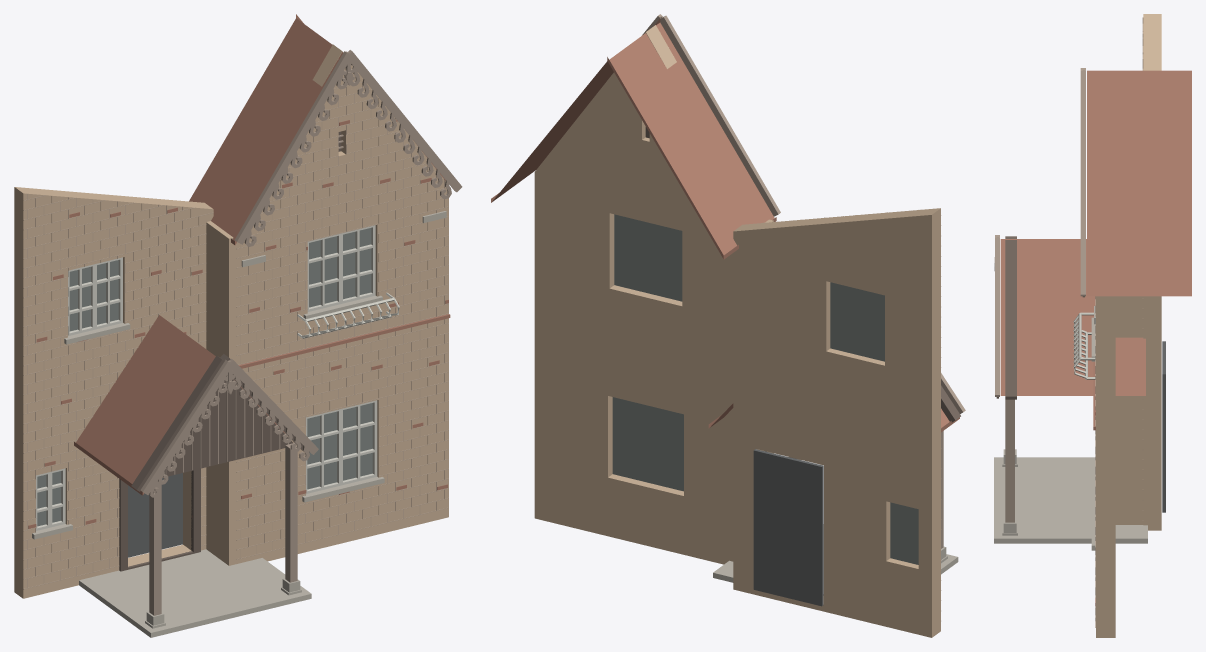
File: jingan-electricity-department-residence-gabled-porch-web.glb
The picture shows the model from 3 angles, left to right: view 1: azimuth 30°, elevation 25°; view 2: azimuth 150°, elevation 25°; view 3: azimuth 270°, elevation 25°; orthographic projection. The views are drawn at different scales.
Parts seen in each view (by area): view 1: 胶州路561号电力部住宅门廊与砖山墙; view 2: 胶州路561号电力部住宅门廊与砖山墙; view 3: 胶州路561号电力部住宅门廊与砖山墙.
Boxes of the visible parts, bbox=[...] form: 胶州路561号电力部住宅门廊与砖山墙: bbox=[14, 14, 462, 637]; 胶州路561号电力部住宅门廊与砖山墙: bbox=[491, 14, 965, 637]; 胶州路561号电力部住宅门廊与砖山墙: bbox=[994, 14, 1191, 637].
Size of the model in its own units: 7.76 by 9 by 3.13.
